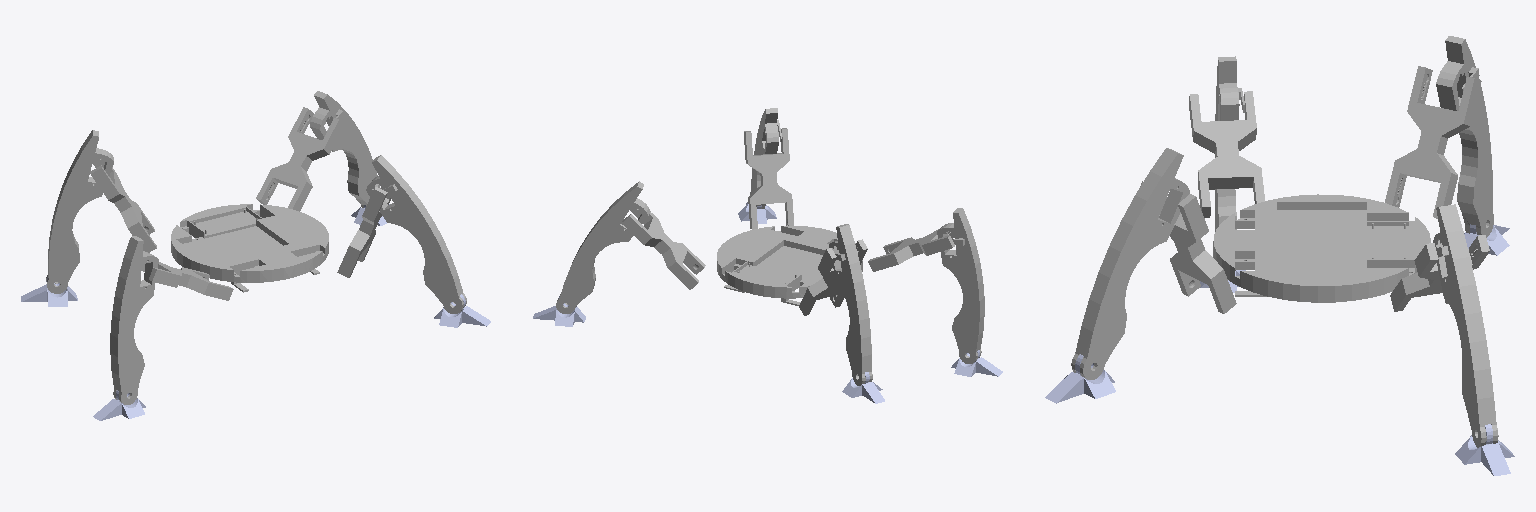
robot.urdf — FullAssemV2_URDF_6:
<?xml version="1.0" encoding="utf-8"?>
<!-- This URDF was automatically created by SolidWorks to URDF Exporter! Originally created by [author] ([email redacted]) 
     Commit Version: 1.5.1-0-g916b5db  Build Version: 1.5.7152.31018
     For more information, please see http://wiki.ros.org/sw_urdf_exporter -->
<robot
  name="FullAssemV2_URDF_6">
  <link
    name="Base_Link">
    <inertial>
      <origin
        xyz="-0.00015378 0.0059831 0.0018543"
        rpy="0 0 0" />
      <mass
        value="0.2498" />
      <inertia
        ixx="0.00027052"
        ixy="-2.9032E-06"
        ixz="9.9718E-07"
        iyy="0.00056127"
        iyz="-1.828E-06"
        izz="0.00029671" />
    </inertial>
    <visual>
      <origin
        xyz="0 0 0"
        rpy="0 0 0" />
      <geometry>
        <mesh
          filename="package://FullAssemV2_URDF_6/meshes/Base_Link.STL" />
      </geometry>
      <material
        name="">
        <color
          rgba="0.75294 0.75294 0.75294 1" />
      </material>
    </visual>
    <collision>
      <origin
        xyz="0 0 0"
        rpy="0 0 0" />
      <geometry>
        <mesh
          filename="package://FullAssemV2_URDF_6/meshes/Base_Link.STL" />
      </geometry>
    </collision>
  </link>
  <link
    name="Thigh1_Link">
    <inertial>
      <origin
        xyz="-0.05457 0.014655 0.0029163"
        rpy="0 0 0" />
      <mass
        value="0.053996" />
      <inertia
        ixx="1.2958E-05"
        ixy="6.6702E-06"
        ixz="-2.6124E-08"
        iyy="2.2919E-05"
        iyz="-2.8182E-08"
        izz="2.4984E-05" />
    </inertial>
    <visual>
      <origin
        xyz="0 0 0"
        rpy="0 0 0" />
      <geometry>
        <mesh
          filename="package://FullAssemV2_URDF_6/meshes/Thigh1_Link.STL" />
      </geometry>
      <material
        name="">
        <color
          rgba="0.75294 0.75294 0.75294 1" />
      </material>
    </visual>
    <collision>
      <origin
        xyz="0 0 0"
        rpy="0 0 0" />
      <geometry>
        <mesh
          filename="package://FullAssemV2_URDF_6/meshes/Thigh1_Link.STL" />
      </geometry>
    </collision>
  </link>
  <joint
    name="Thigh1_Joint"
    type="continuous">
    <origin
      xyz="-0.039065 -0.053882 0"
      rpy="1.5708 0 0.098815" />
    <parent
      link="Base_Link" />
    <child
      link="Thigh1_Link" />
    <axis
      xyz="0 1 0" />
  </joint>
  <link
    name="Shin1_Link">
    <inertial>
      <origin
        xyz="0.089293 0.00052424 0.12407"
        rpy="0 0 0" />
      <mass
        value="0.057893" />
      <inertia
        ixx="5.1911E-06"
        ixy="-1.6884E-07"
        ixz="-2.1135E-06"
        iyy="9.8478E-05"
        iyz="-1.0817E-08"
        izz="9.4822E-05" />
    </inertial>
    <visual>
      <origin
        xyz="0 0 0"
        rpy="0 0 0" />
      <geometry>
        <mesh
          filename="package://FullAssemV2_URDF_6/meshes/Shin1_Link.STL" />
      </geometry>
      <material
        name="">
        <color
          rgba="0.75294 0.75294 0.75294 1" />
      </material>
    </visual>
    <collision>
      <origin
        xyz="0 0 0"
        rpy="0 0 0" />
      <geometry>
        <mesh
          filename="package://FullAssemV2_URDF_6/meshes/Shin1_Link.STL" />
      </geometry>
    </collision>
  </link>
  <joint
    name="Shin1_Joint"
    type="continuous">
    <origin
      xyz="0 0.078226 0"
      rpy="1.5708 0 -1.6593" />
    <parent
      link="Thigh1_Link" />
    <child
      link="Shin1_Link" />
    <axis
      xyz="0.99609 0 -0.088356" />
  </joint>
  <link
    name="Foot1_Link">
    <inertial>
      <origin
        xyz="-0.02178 0.14158 0.00015875"
        rpy="0 0 0" />
      <mass
        value="0.0091406" />
      <inertia
        ixx="1.4339E-06"
        ixy="6.6635E-08"
        ixz="1.9162E-14"
        iyy="7.4197E-07"
        iyz="-1.2833E-13"
        izz="1.335E-06" />
    </inertial>
    <visual>
      <origin
        xyz="0 0 0"
        rpy="0 0 0" />
      <geometry>
        <mesh
          filename="package://FullAssemV2_URDF_6/meshes/Foot1_Link.STL" />
      </geometry>
      <material
        name="">
        <color
          rgba="0.79216 0.81961 0.93333 1" />
      </material>
    </visual>
    <collision>
      <origin
        xyz="0 0 0"
        rpy="0 0 0" />
      <geometry>
        <mesh
          filename="package://FullAssemV2_URDF_6/meshes/Foot1_Link.STL" />
      </geometry>
    </collision>
  </link>
  <joint
    name="Foot1_Joint"
    type="continuous">
    <origin
      xyz="0.15134 0 -0.013424"
      rpy="1.5708 -0.088471 3.1416" />
    <parent
      link="Shin1_Link" />
    <child
      link="Foot1_Link" />
    <axis
      xyz="1 0 0" />
  </joint>
  <link
    name="Thigh2_Link">
    <inertial>
      <origin
        xyz="-0.042838 0.025441 0.0029163"
        rpy="0 0 0" />
      <mass
        value="0.053996" />
      <inertia
        ixx="2.4039E-05"
        ixy="5.7377E-06"
        ixz="-2.6382E-08"
        iyy="1.1839E-05"
        iyz="-2.842E-08"
        izz="2.4984E-05" />
    </inertial>
    <visual>
      <origin
        xyz="0 0 0"
        rpy="0 0 0" />
      <geometry>
        <mesh
          filename="package://FullAssemV2_URDF_6/meshes/Thigh2_Link.STL" />
      </geometry>
      <material
        name="">
        <color
          rgba="0.75294 0.75294 0.75294 1" />
      </material>
    </visual>
    <collision>
      <origin
        xyz="0 0 0"
        rpy="0 0 0" />
      <geometry>
        <mesh
          filename="package://FullAssemV2_URDF_6/meshes/Thigh2_Link.STL" />
      </geometry>
    </collision>
  </link>
  <joint
    name="Thigh2_Joint"
    type="continuous">
    <origin
      xyz="0.039065 -0.053882 0"
      rpy="1.5708 0 2.2782" />
    <parent
      link="Base_Link" />
    <child
      link="Thigh2_Link" />
    <axis
      xyz="0 1 0" />
  </joint>
  <link
    name="Shin2_Link">
    <inertial>
      <origin
        xyz="-0.029659 0.00052423 0.13554"
        rpy="0 0 0" />
      <mass
        value="0.057893" />
      <inertia
        ixx="5.1898E-06"
        ixy="-1.6896E-07"
        ixz="-2.1127E-06"
        iyy="9.8478E-05"
        iyz="-1.0889E-08"
        izz="9.4823E-05" />
    </inertial>
    <visual>
      <origin
        xyz="0 0 0"
        rpy="0 0 0" />
      <geometry>
        <mesh
          filename="package://FullAssemV2_URDF_6/meshes/Shin2_Link.STL" />
      </geometry>
      <material
        name="">
        <color
          rgba="0.75294 0.75294 0.75294 1" />
      </material>
    </visual>
    <collision>
      <origin
        xyz="0 0 0"
        rpy="0 0 0" />
      <geometry>
        <mesh
          filename="package://FullAssemV2_URDF_6/meshes/Shin2_Link.STL" />
      </geometry>
    </collision>
  </link>
  <joint
    name="Shin2_Joint"
    type="continuous">
    <origin
      xyz="0 -0.040937 0"
      rpy="1.5708 0 -2.095" />
    <parent
      link="Thigh2_Link" />
    <child
      link="Shin2_Link" />
    <axis
      xyz="0.86575 0 -0.50048" />
  </joint>
  <link
    name="Foot2_Link">
    <inertial>
      <origin
        xyz="0.0086849 0.14743 0.00015875"
        rpy="0 0 0" />
      <mass
        value="0.0091406" />
      <inertia
        ixx="1.4339E-06"
        ixy="6.6635E-08"
        ixz="9.0873E-14"
        iyy="7.4197E-07"
        iyz="-1.1846E-13"
        izz="1.335E-06" />
    </inertial>
    <visual>
      <origin
        xyz="0 0 0"
        rpy="0 0 0" />
      <geometry>
        <mesh
          filename="package://FullAssemV2_URDF_6/meshes/Foot2_Link.STL" />
      </geometry>
      <material
        name="">
        <color
          rgba="0.79216 0.81961 0.93333 1" />
      </material>
    </visual>
    <collision>
      <origin
        xyz="0 0 0"
        rpy="0 0 0" />
      <geometry>
        <mesh
          filename="package://FullAssemV2_URDF_6/meshes/Foot2_Link.STL" />
      </geometry>
    </collision>
  </link>
  <joint
    name="Foot2_Joint"
    type="continuous">
    <origin
      xyz="0 0 0"
      rpy="1.5708 -0.52416 3.1416" />
    <parent
      link="Shin2_Link" />
    <child
      link="Foot2_Link" />
    <axis
      xyz="1 0 0" />
  </joint>
  <link
    name="Thigh3_Link">
    <inertial>
      <origin
        xyz="-0.050482 0.020373 0.0029163"
        rpy="0 0 0" />
      <mass
        value="0.053996" />
      <inertia
        ixx="1.7864E-05"
        ixy="8.3469E-06"
        ixz="-2.6214E-08"
        iyy="1.8014E-05"
        iyz="-2.8308E-08"
        izz="2.4984E-05" />
    </inertial>
    <visual>
      <origin
        xyz="0 0 0"
        rpy="0 0 0" />
      <geometry>
        <mesh
          filename="package://FullAssemV2_URDF_6/meshes/Thigh3_Link.STL" />
      </geometry>
      <material
        name="">
        <color
          rgba="0.75294 0.75294 0.75294 1" />
      </material>
    </visual>
    <collision>
      <origin
        xyz="0 0 0"
        rpy="0 0 0" />
      <geometry>
        <mesh
          filename="package://FullAssemV2_URDF_6/meshes/Thigh3_Link.STL" />
      </geometry>
    </collision>
  </link>
  <joint
    name="Thigh3_Joint"
    type="continuous">
    <origin
      xyz="0.039433 0.05348 0"
      rpy="1.5708 0 -2.7838" />
    <parent
      link="Base_Link" />
    <child
      link="Thigh3_Link" />
    <axis
      xyz="0 1 0" />
  </joint>
  <link
    name="Shin3_Link">
    <inertial>
      <origin
        xyz="-0.017595 0.00052425 0.16111"
        rpy="0 0 0" />
      <mass
        value="0.057893" />
      <inertia
        ixx="5.1914E-06"
        ixy="-1.6879E-07"
        ixz="-2.1139E-06"
        iyy="9.8478E-05"
        iyz="-1.08E-08"
        izz="9.4822E-05" />
    </inertial>
    <visual>
      <origin
        xyz="0 0 0"
        rpy="0 0 0" />
      <geometry>
        <mesh
          filename="package://FullAssemV2_URDF_6/meshes/Shin3_Link.STL" />
      </geometry>
      <material
        name="">
        <color
          rgba="0.75294 0.75294 0.75294 1" />
      </material>
    </visual>
    <collision>
      <origin
        xyz="0 0 0"
        rpy="0 0 0" />
      <geometry>
        <mesh
          filename="package://FullAssemV2_URDF_6/meshes/Shin3_Link.STL" />
      </geometry>
    </collision>
  </link>
  <joint
    name="Shin3_Joint"
    type="continuous">
    <origin
      xyz="0 -0.061738 0"
      rpy="1.5708 0 -2.0801" />
    <parent
      link="Thigh3_Link" />
    <child
      link="Shin3_Link" />
    <axis
      xyz="0.87309 0 -0.48756" />
  </joint>
  <link
    name="Foot3_Link">
    <inertial>
      <origin
        xyz="0.0084624 0.17592 0.00015874"
        rpy="0 0 0" />
      <mass
        value="0.0091406" />
      <inertia
        ixx="1.4339E-06"
        ixy="6.6635E-08"
        ixz="4.0749E-13"
        iyy="7.4197E-07"
        iyz="-1.3487E-13"
        izz="1.335E-06" />
    </inertial>
    <visual>
      <origin
        xyz="0 0 0"
        rpy="0 0 0" />
      <geometry>
        <mesh
          filename="package://FullAssemV2_URDF_6/meshes/Foot3_Link.STL" />
      </geometry>
      <material
        name="">
        <color
          rgba="0.79216 0.81961 0.93333 1" />
      </material>
    </visual>
    <collision>
      <origin
        xyz="0 0 0"
        rpy="0 0 0" />
      <geometry>
        <mesh
          filename="package://FullAssemV2_URDF_6/meshes/Foot3_Link.STL" />
      </geometry>
    </collision>
  </link>
  <joint
    name="Foot3_Joint"
    type="continuous">
    <origin
      xyz="0 0 0"
      rpy="1.5708 -0.5093 3.1416" />
    <parent
      link="Shin3_Link" />
    <child
      link="Foot3_Link" />
    <axis
      xyz="1 0 0" />
  </joint>
  <link
    name="Thigh4_Link">
    <inertial>
      <origin
        xyz="-0.046262 0.023725 0.0029163"
        rpy="0 0 0" />
      <mass
        value="0.053996" />
      <inertia
        ixx="2.1756E-05"
        ixy="7.443E-06"
        ixz="-2.6307E-08"
        iyy="1.4122E-05"
        iyz="-2.8382E-08"
        izz="2.4984E-05" />
    </inertial>
    <visual>
      <origin
        xyz="0 0 0"
        rpy="0 0 0" />
      <geometry>
        <mesh
          filename="package://FullAssemV2_URDF_6/meshes/Thigh4_Link.STL" />
      </geometry>
      <material
        name="">
        <color
          rgba="0.75294 0.75294 0.75294 1" />
      </material>
    </visual>
    <collision>
      <origin
        xyz="0 0 0"
        rpy="0 0 0" />
      <geometry>
        <mesh
          filename="package://FullAssemV2_URDF_6/meshes/Thigh4_Link.STL" />
      </geometry>
    </collision>
  </link>
  <joint
    name="Thigh4_Joint"
    type="continuous">
    <origin
      xyz="-0.039433 0.05348 0"
      rpy="1.5708 0 -0.47257" />
    <parent
      link="Base_Link" />
    <child
      link="Thigh4_Link" />
    <axis
      xyz="0 1 0" />
  </joint>
  <link
    name="Shin4_Link">
    <inertial>
      <origin
        xyz="-0.069847 0.00052425 0.12515"
        rpy="0 0 0" />
      <mass
        value="0.057893" />
      <inertia
        ixx="5.1892E-06"
        ixy="-1.69E-07"
        ixz="-2.1127E-06"
        iyy="9.8478E-05"
        iyz="-1.0926E-08"
        izz="9.4824E-05" />
    </inertial>
    <visual>
      <origin
        xyz="0 0 0"
        rpy="0 0 0" />
      <geometry>
        <mesh
          filename="package://FullAssemV2_URDF_6/meshes/Shin4_Link.STL" />
      </geometry>
      <material
        name="">
        <color
          rgba="0.75294 0.75294 0.75294 1" />
      </material>
    </visual>
    <collision>
      <origin
        xyz="0 0 0"
        rpy="0 0 0" />
      <geometry>
        <mesh
          filename="package://FullAssemV2_URDF_6/meshes/Shin4_Link.STL" />
      </geometry>
    </collision>
  </link>
  <joint
    name="Shin4_Joint"
    type="continuous">
    <origin
      xyz="0 -0.058914 0"
      rpy="1.5708 0 -1.8089" />
    <parent
      link="Thigh4_Link" />
    <child
      link="Shin4_Link" />
    <axis
      xyz="0.9718 0 -0.23582" />
  </joint>
  <link
    name="Foot4_Link">
    <inertial>
      <origin
        xyz="0.0036763 0.12771 0.00015874"
        rpy="0 0 0" />
      <mass
        value="0.0091406" />
      <inertia
        ixx="1.4339E-06"
        ixy="6.6635E-08"
        ixz="-7.4416E-13"
        iyy="7.4197E-07"
        iyz="-1.0998E-13"
        izz="1.335E-06" />
    </inertial>
    <visual>
      <origin
        xyz="0 0 0"
        rpy="0 0 0" />
      <geometry>
        <mesh
          filename="package://FullAssemV2_URDF_6/meshes/Foot4_Link.STL" />
      </geometry>
      <material
        name="">
        <color
          rgba="0.79216 0.81961 0.93333 1" />
      </material>
    </visual>
    <collision>
      <origin
        xyz="0 0 0"
        rpy="0 0 0" />
      <geometry>
        <mesh
          filename="package://FullAssemV2_URDF_6/meshes/Foot4_Link.STL" />
      </geometry>
    </collision>
  </link>
  <joint
    name="Foot4_Joint"
    type="continuous">
    <origin
      xyz="0 0 0"
      rpy="1.5708 -0.23806 3.1416" />
    <parent
      link="Shin4_Link" />
    <child
      link="Foot4_Link" />
    <axis
      xyz="1 0 0" />
  </joint>
</robot>

--- Render facts (derived) ---
3 views of the same robot in one strip: view 1: azimuth 30°, elevation 25°; view 2: azimuth 150°, elevation 25°; view 3: azimuth 270°, elevation 25° (orthographic).
Robot: FullAssemV2_URDF_6 — 13 links, 12 joints (12 continuous); root link Base_Link; default pose: all joints at 0.
Links seen in each view (by area): view 1: Base_Link, Shin2_Link, Shin1_Link, Shin4_Link, Thigh3_Link, Shin3_Link, Thigh4_Link, Thigh2_Link, Thigh1_Link, Foot2_Link, Foot1_Link, Foot4_Link; view 2: Base_Link, Shin1_Link, Shin3_Link, Shin4_Link, Thigh2_Link, Thigh3_Link, Thigh1_Link, Thigh4_Link, Shin2_Link, Foot1_Link, Foot3_Link, Foot4_Link; view 3: Base_Link, Shin2_Link, Shin3_Link, Shin4_Link, Thigh4_Link, Thigh1_Link, Thigh2_Link, Thigh3_Link, Shin1_Link, Foot2_Link, Foot3_Link, Foot4_Link.
Link boxes in pixels (left/top/right/bottom): Base_Link: left=171, top=204, right=328, bottom=292; Shin2_Link: left=366, top=155, right=466, bottom=313; Shin1_Link: left=110, top=236, right=158, bottom=404; Shin4_Link: left=46, top=130, right=113, bottom=293; Thigh3_Link: left=256, top=107, right=344, bottom=211; Shin3_Link: left=310, top=91, right=380, bottom=207; Thigh4_Link: left=90, top=162, right=156, bottom=252; Thigh2_Link: left=337, top=185, right=390, bottom=277; Thigh1_Link: left=142, top=262, right=233, bottom=300; Foot2_Link: left=434, top=294, right=490, bottom=327; Foot1_Link: left=93, top=390, right=145, bottom=420; Foot4_Link: left=21, top=277, right=77, bottom=306; Base_Link: left=717, top=225, right=862, bottom=305; Shin1_Link: left=937, top=208, right=984, bottom=363; Shin3_Link: left=556, top=181, right=650, bottom=313; Shin4_Link: left=829, top=224, right=872, bottom=385; Thigh2_Link: left=744, top=128, right=793, bottom=229; Thigh3_Link: left=621, top=209, right=705, bottom=289; Thigh1_Link: left=868, top=229, right=954, bottom=271; Thigh4_Link: left=799, top=239, right=867, bottom=315; Shin2_Link: left=750, top=108, right=781, bottom=208; Foot1_Link: left=951, top=350, right=1002, bottom=376; Foot3_Link: left=533, top=296, right=585, bottom=326; Foot4_Link: left=842, top=372, right=884, bottom=403; Base_Link: left=1213, top=194, right=1430, bottom=302; Shin2_Link: left=1071, top=148, right=1189, bottom=379; Shin3_Link: left=1433, top=204, right=1498, bottom=447; Shin4_Link: left=1436, top=36, right=1493, bottom=237; Thigh4_Link: left=1385, top=66, right=1481, bottom=218; Thigh1_Link: left=1189, top=91, right=1264, bottom=217; Thigh2_Link: left=1159, top=194, right=1236, bottom=313; Thigh3_Link: left=1390, top=235, right=1489, bottom=311; Shin1_Link: left=1215, top=56, right=1244, bottom=270; Foot2_Link: left=1045, top=354, right=1115, bottom=403; Foot3_Link: left=1455, top=424, right=1514, bottom=475; Foot4_Link: left=1464, top=224, right=1509, bottom=255.
Size in the robot's own frame: 0.4488 by 0.3298 by 0.2223 metres.
13 mesh visuals loaded from 13 distinct referenced files (13 binary STL).